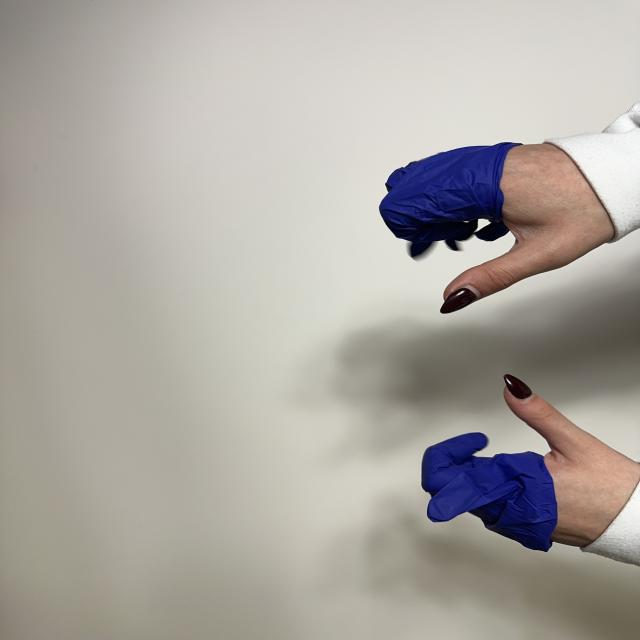glove_partial: (380, 144, 614, 314), (422, 375, 640, 551)
